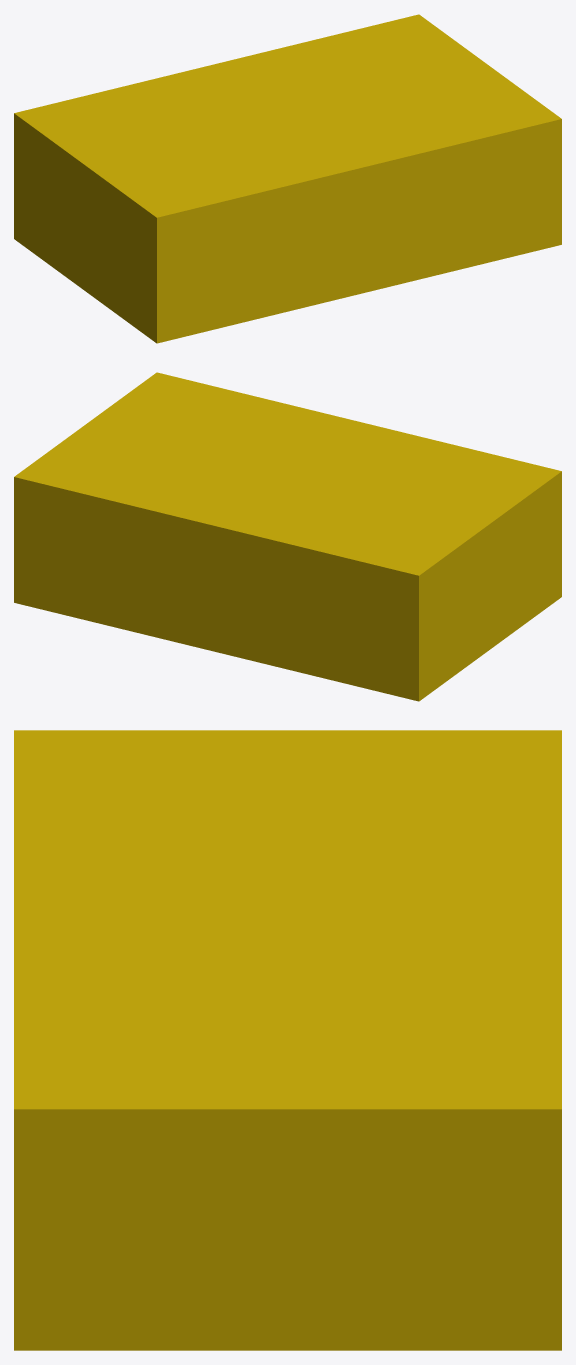
File: cube_fractured1.fbx
3 renders of one model, top to bottom at view 1: azimuth 30°, elevation 25°; view 2: azimuth 150°, elevation 25°; view 3: azimuth 270°, elevation 25°, orthographic. The views are drawn at different scales.
Visible parts, largest first — view 1: Cube.001, Cube.001_shard.059, Cube.001_shard.079, Cube.001_shard.067, Cube.001_shard.091, Cube.001_shard.060, Cube.001_shard.085, Cube.001_shard.050, Cube.001_shard.036, Cube.001_shard.029, Cube.001_shard.015, Cube.001_shard.093 (+16 smaller); view 2: Cube.001, Cube.001_shard.071, Cube.001_shard.093, Cube.001_shard.067, Cube.001_shard.059, Cube.001_shard.079, Cube.001_shard.065, Cube.001_shard.084, Cube.001_shard.097, Cube.001_shard.053, Cube.001_shard.085, Cube.001_shard.058 (+17 smaller); view 3: Cube.001, Cube.001_shard.095, Cube.001_shard.098, Cube.001_shard.096, Cube.001_shard.067, Cube.001_shard.085, Cube.001_shard.091, Cube.001_shard.029, Cube.001_shard.097, Cube.001_shard.015, Cube.001_shard.093, Cube.001_shard.065 (+20 smaller).
Boxes of the visible parts, x1,y1,x2,y2 form: Cube.001: [46, 71, 561, 341]; Cube.001_shard.059: [84, 195, 250, 343]; Cube.001_shard.079: [14, 112, 92, 289]; Cube.001_shard.067: [49, 115, 150, 250]; Cube.001_shard.091: [419, 130, 533, 254]; Cube.001_shard.060: [322, 148, 443, 264]; Cube.001_shard.085: [324, 46, 435, 106]; Cube.001_shard.050: [196, 201, 259, 327]; Cube.001_shard.036: [252, 164, 376, 220]; Cube.001_shard.029: [234, 57, 383, 120]; Cube.001_shard.015: [114, 87, 239, 139]; Cube.001_shard.093: [319, 14, 433, 51]; Cube.001: [53, 372, 561, 700]; Cube.001_shard.071: [287, 552, 424, 701]; Cube.001_shard.093: [14, 455, 136, 592]; Cube.001_shard.067: [392, 492, 533, 592]; Cube.001_shard.059: [489, 471, 561, 649]; Cube.001_shard.079: [406, 550, 497, 680]; Cube.001_shard.065: [124, 461, 234, 589]; Cube.001_shard.084: [93, 495, 190, 605]; Cube.001_shard.097: [14, 530, 117, 627]; Cube.001_shard.053: [231, 530, 315, 627]; Cube.001_shard.085: [73, 450, 235, 493]; Cube.001_shard.058: [191, 587, 285, 668]; Cube.001: [14, 730, 561, 1350]; Cube.001_shard.095: [228, 1055, 561, 1307]; Cube.001_shard.098: [134, 1095, 403, 1350]; Cube.001_shard.096: [41, 1088, 168, 1350]; Cube.001_shard.067: [121, 730, 492, 791]; Cube.001_shard.085: [262, 972, 507, 1088]; Cube.001_shard.091: [14, 1028, 201, 1280]; Cube.001_shard.029: [179, 910, 561, 983]; Cube.001_shard.097: [439, 1237, 561, 1350]; Cube.001_shard.015: [250, 820, 561, 879]; Cube.001_shard.093: [422, 1007, 561, 1126]; Cube.001_shard.065: [293, 944, 561, 1008].
Bounding box in the file's own units: 327 × 97.16 × 200.
